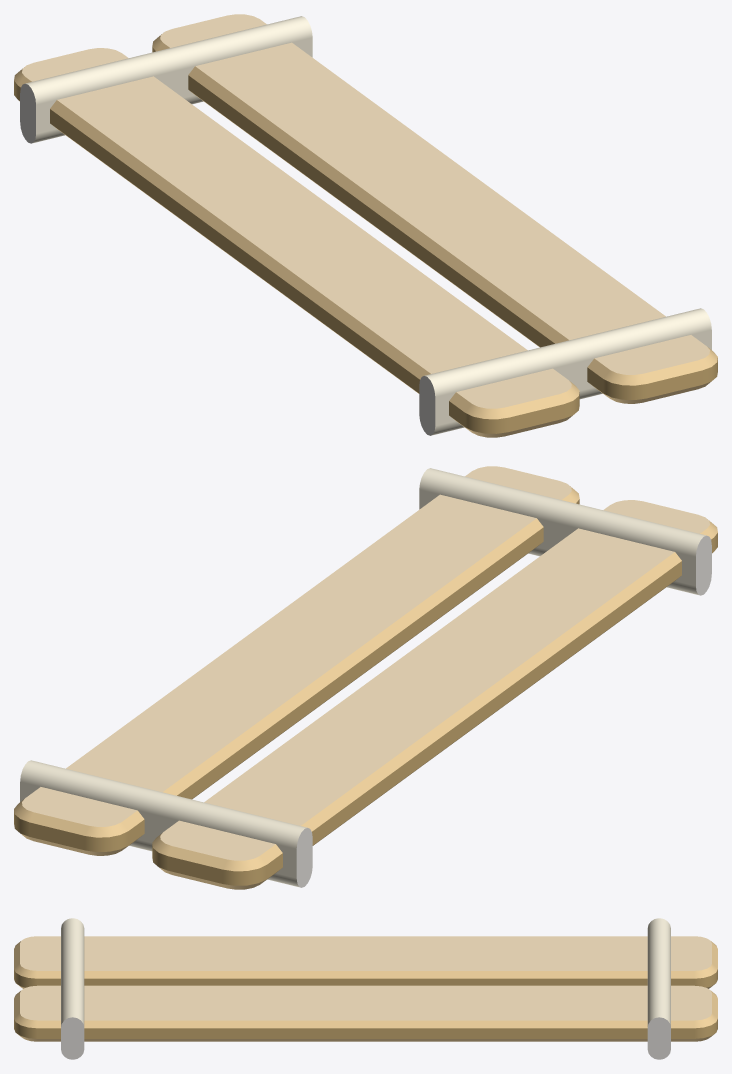
Rendered from wideBridge.glb.
3 renders of one model, top to bottom at view 1: azimuth 30°, elevation 25°; view 2: azimuth 150°, elevation 25°; view 3: azimuth 270°, elevation 25°, orthographic. The views are drawn at different scales.
Parts seen in each view (by area): view 1: Wood_Light.001, Rope.001, Wood_Medium.001, Wood_Dark.001, Hidden.001; view 2: Wood_Light.001, Rope.001, Wood_Medium.001, Wood_Dark.001, Hidden.001; view 3: Wood_Light.001, Wood_Medium.001, Wood_Dark.001, Rope.001, Hidden.001.
Boxes of the visible parts, left/top/right/bottom form: Wood_Light.001: left=22, top=14, right=709, bottom=408; Rope.001: left=25, top=16, right=711, bottom=435; Wood_Medium.001: left=14, top=34, right=717, bottom=437; Wood_Dark.001: left=14, top=47, right=717, bottom=433; Hidden.001: left=20, top=83, right=435, bottom=435; Wood_Light.001: left=22, top=466, right=709, bottom=860; Rope.001: left=20, top=468, right=706, bottom=887; Wood_Medium.001: left=14, top=486, right=717, bottom=889; Wood_Dark.001: left=14, top=499, right=717, bottom=885; Hidden.001: left=296, top=535, right=711, bottom=887; Wood_Light.001: left=20, top=936, right=711, bottom=1020; Wood_Medium.001: left=14, top=941, right=717, bottom=1041; Wood_Dark.001: left=14, top=969, right=717, bottom=1038; Rope.001: left=61, top=918, right=670, bottom=1026; Hidden.001: left=61, top=1017, right=670, bottom=1059.
Size of the model in its own units: 1 by 0.2 by 3.
